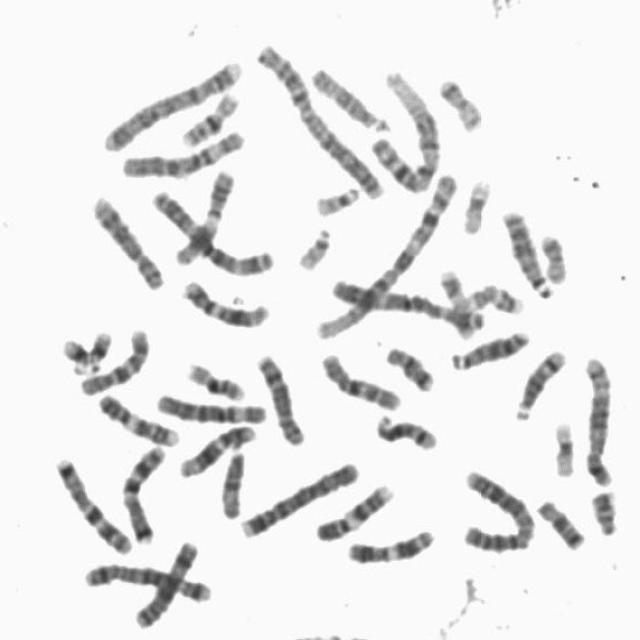A1: (313, 163, 462, 343), (364, 63, 443, 194)
A2: (250, 34, 387, 201), (454, 461, 537, 554)
A3: (146, 181, 276, 277), (324, 271, 486, 335)
B4: (95, 51, 243, 154), (232, 453, 362, 540)
B5: (75, 554, 215, 605), (578, 348, 616, 487)
C10: (313, 345, 404, 413), (73, 320, 152, 397)
C11: (168, 163, 237, 266), (340, 522, 438, 566)
C12: (174, 272, 272, 330), (172, 417, 258, 478)
C6: (114, 121, 249, 180), (150, 385, 270, 426)
C7: (48, 449, 135, 556), (115, 436, 168, 546)
C8: (84, 187, 167, 291), (250, 346, 308, 448)
C9: (309, 476, 395, 543), (92, 386, 181, 448)
D13: (496, 201, 555, 299), (444, 321, 532, 371)
D14: (507, 341, 568, 422), (369, 406, 441, 452)
D15: (304, 58, 392, 133), (214, 443, 248, 520)
E16: (173, 82, 242, 148), (179, 353, 248, 402)
E17: (433, 262, 478, 340), (462, 276, 526, 315)
E18: (530, 491, 588, 552), (378, 338, 436, 393)
F19: (456, 170, 494, 235), (546, 413, 578, 478)
F20: (430, 68, 486, 132), (534, 226, 570, 285)
G21: (54, 329, 95, 376), (82, 322, 114, 373)
G22: (290, 219, 334, 272), (308, 178, 362, 218)
X: (128, 532, 202, 630)
Y: (584, 482, 621, 536)
